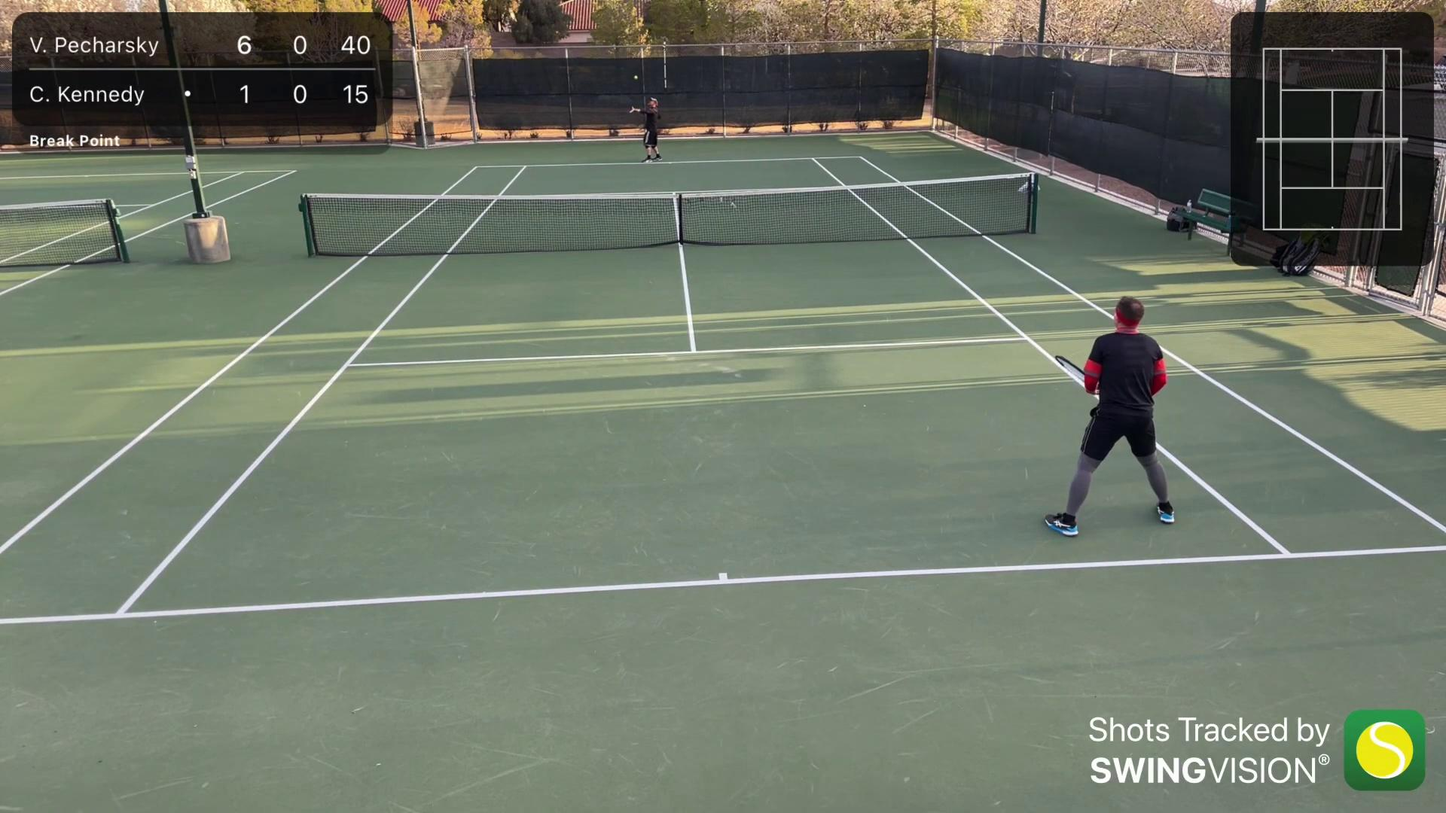ball: (633, 74, 639, 79)
